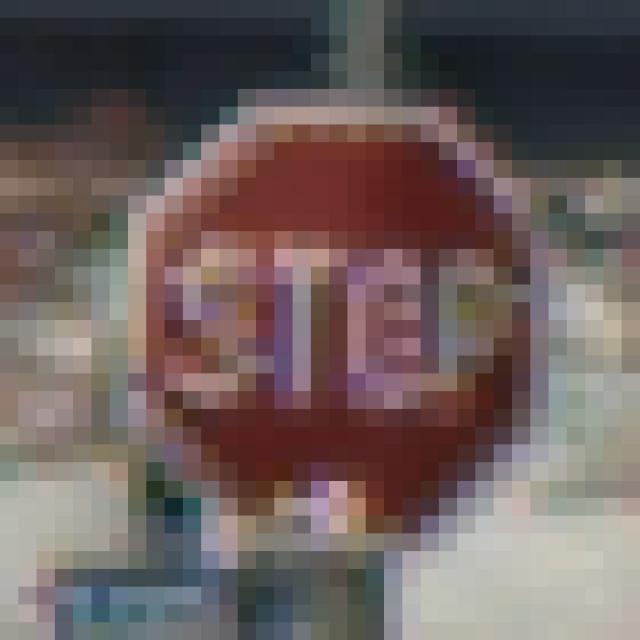STOP: (93, 90, 550, 552)
